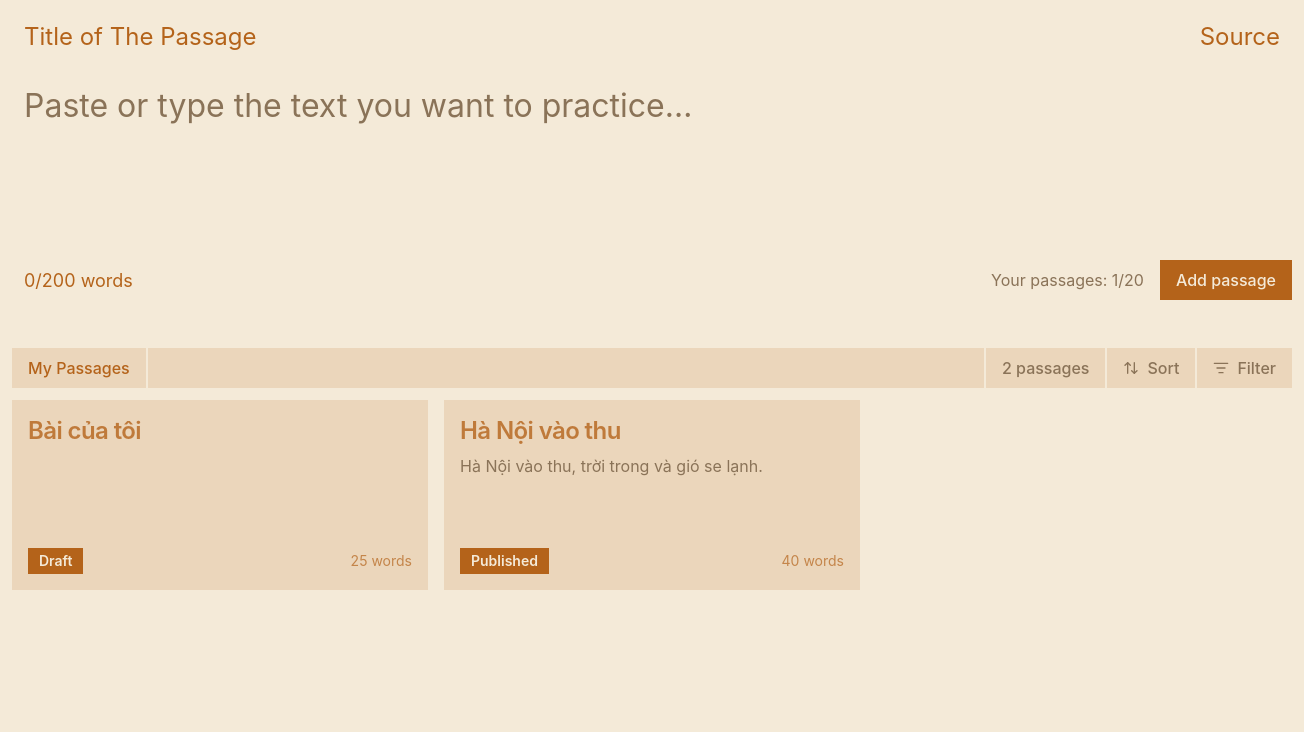
Test: PassagesPage › does not send a text under 20 words, and says why
Expected: the heading "Hà Nội vào thu" is shown, [460,416,621,446]
Type "một hai ba" into the text box named "Content" at (652, 160), box [12,76,1292,244]
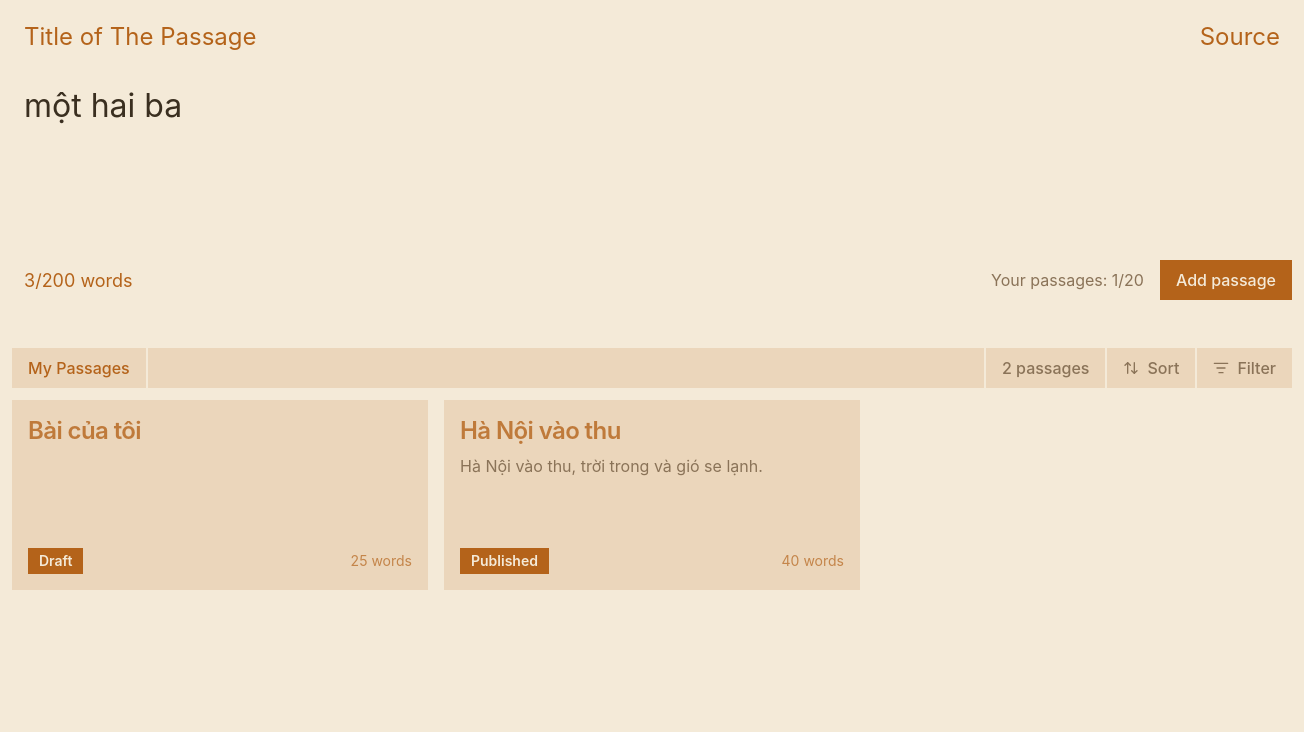
Click the button "Add passage" at (1226, 280), box [1160,260,1292,300]
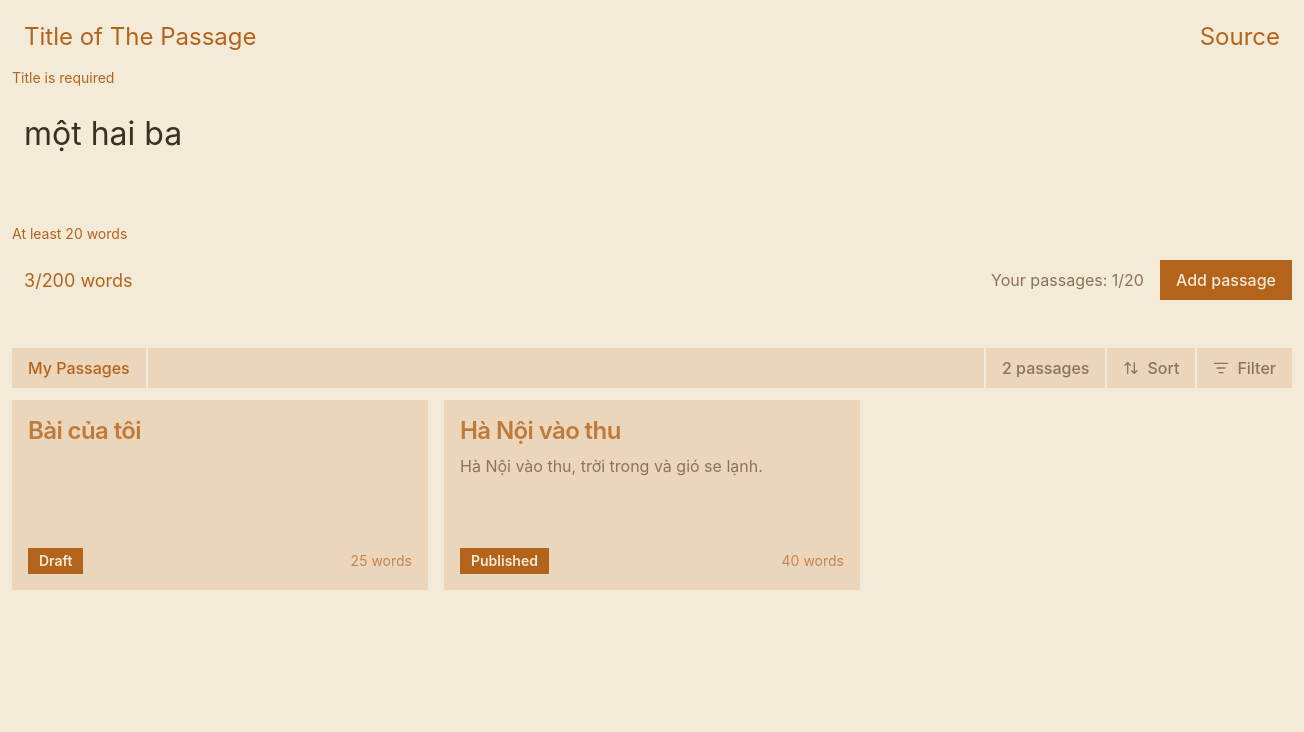
Expected: the text "At least 20 words" is shown, [12,225,127,242]
